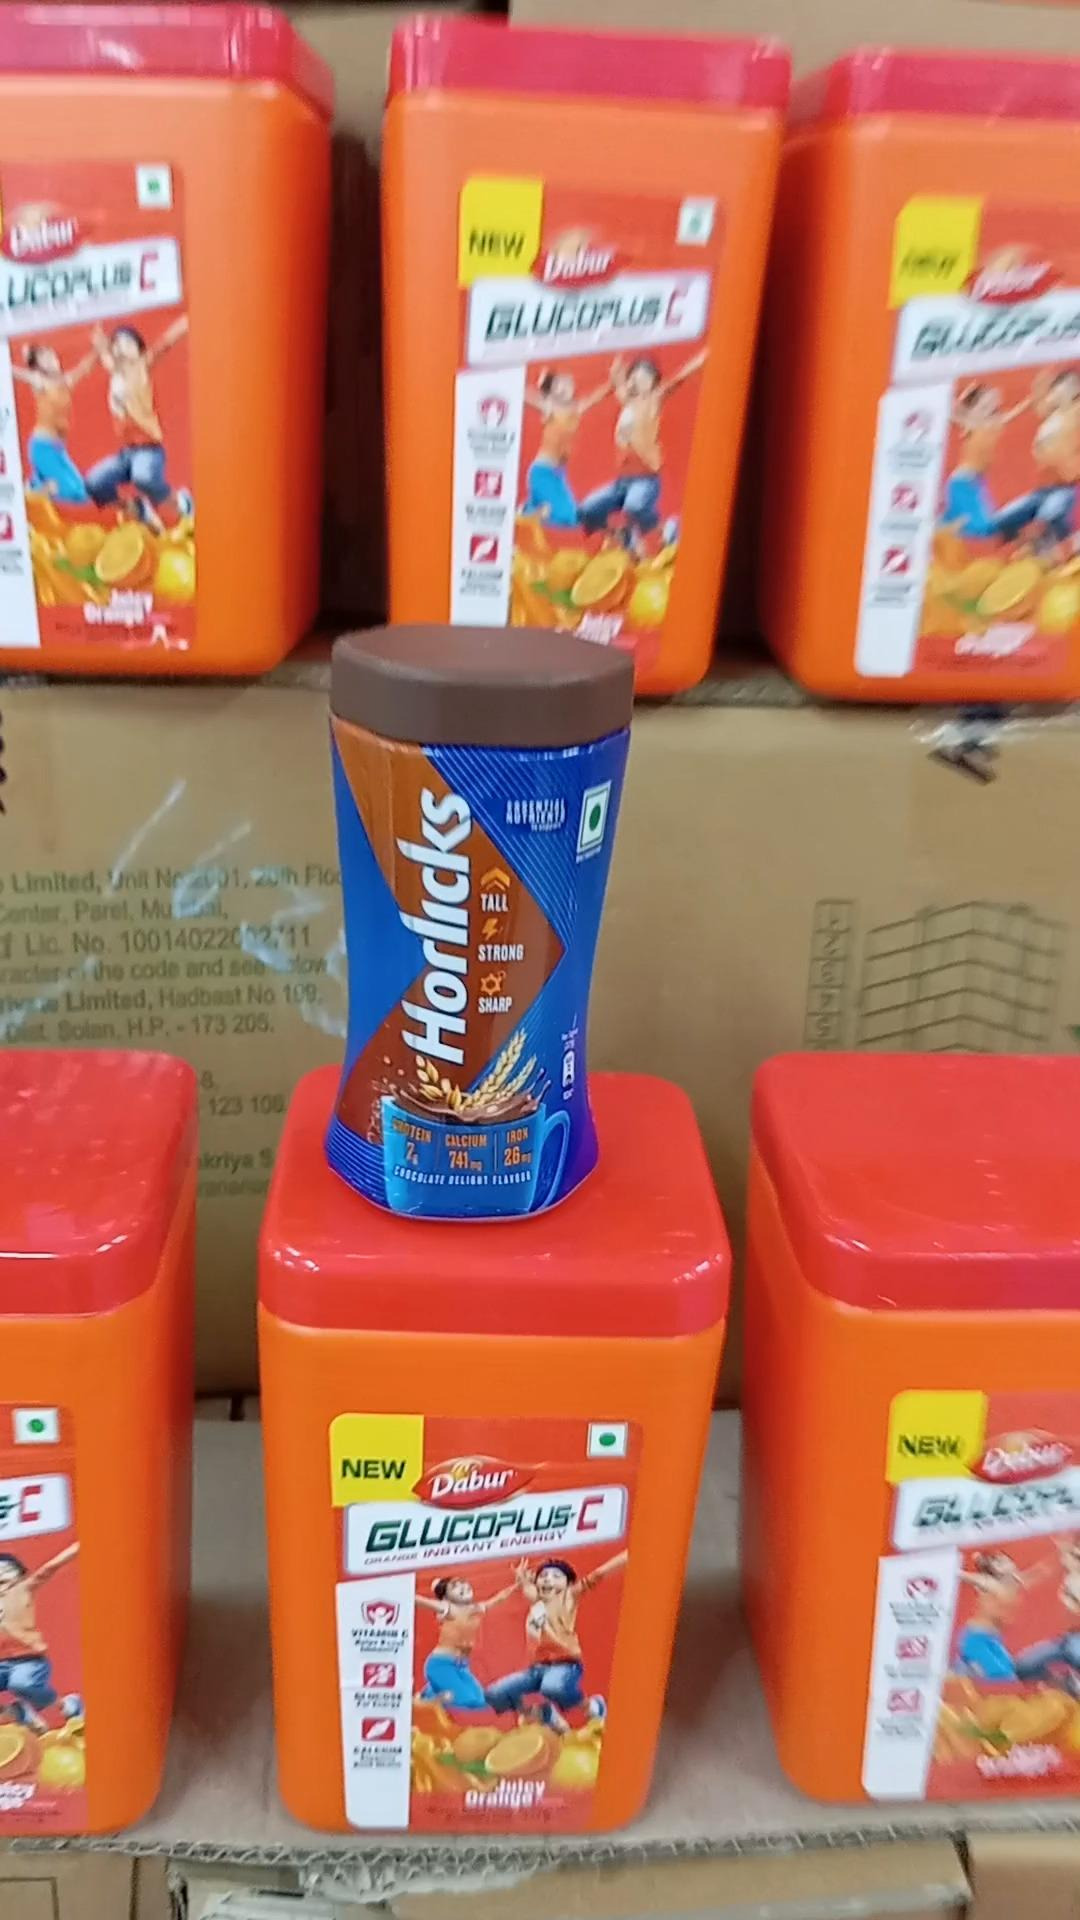HORLICK_CHOCOLATE_200_G_JAR: (334, 624, 608, 1234)
